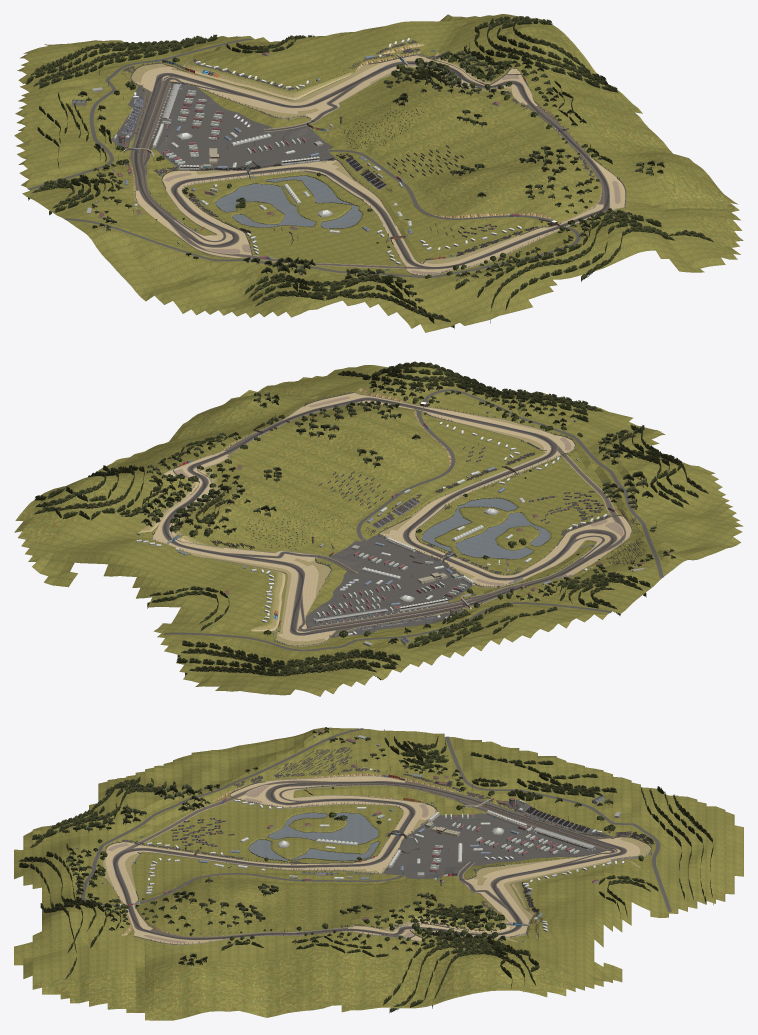
Rendered from lagunaseca.glb.
The picture shows the model from 3 angles, top to bottom: view 1: azimuth 30°, elevation 25°; view 2: azimuth 150°, elevation 25°; view 3: azimuth 270°, elevation 25°; orthographic projection. The views are drawn at different scales.
Size of the model in its own units: 1190 by 118 by 1404.
73 materials, 73 textured.
